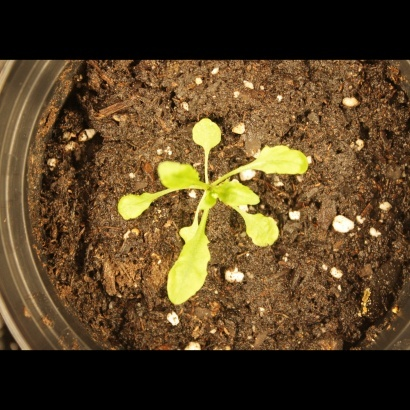leaf: (166, 218, 213, 307), (248, 139, 318, 178), (240, 204, 286, 256), (152, 153, 205, 191), (188, 111, 229, 157), (113, 189, 158, 226), (215, 176, 262, 211), (172, 217, 210, 250)
